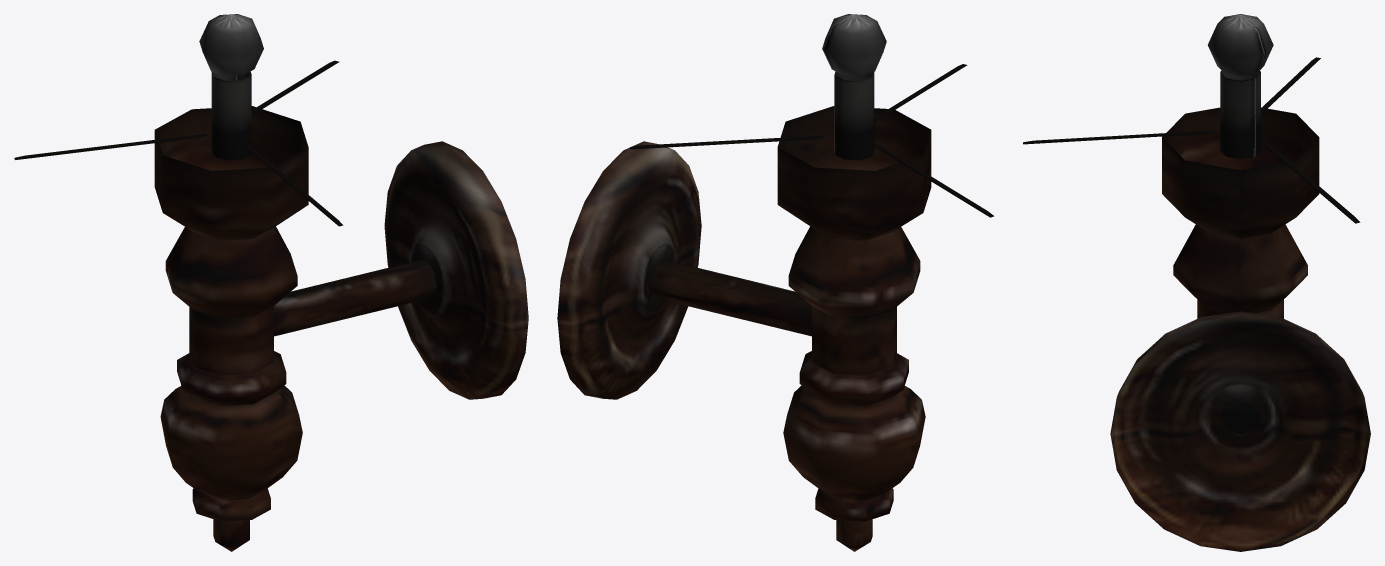
Rendered from lampe01.fbx.
The picture shows the model from 3 angles, left to right: view 1: azimuth 30°, elevation 25°; view 2: azimuth 150°, elevation 25°; view 3: azimuth 270°, elevation 25°; orthographic projection.
Visible parts, largest first — view 1: lampemurale; view 2: lampemurale; view 3: lampemurale.
Part boxes in pixels (bbox=[...]): lampemurale: bbox=[14, 14, 528, 551]; lampemurale: bbox=[557, 14, 994, 551]; lampemurale: bbox=[1023, 14, 1370, 551].
Bounding box in the file's own units: 47.83 × 59.96 × 35.67.
